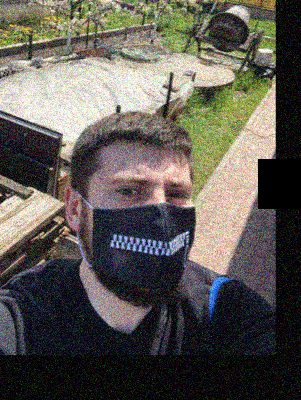with_mask: (90, 162, 196, 309)
